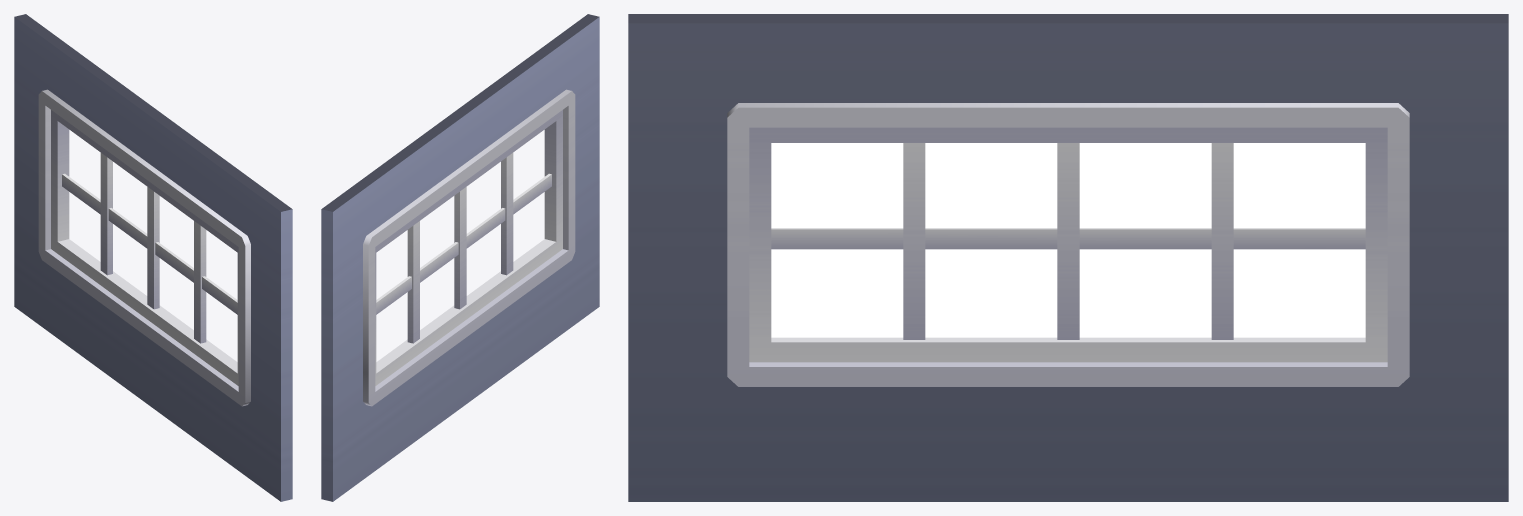
The model's file is Wall Window Wide.glb.
The picture shows the model from 3 angles, left to right: view 1: azimuth 30°, elevation 25°; view 2: azimuth 150°, elevation 25°; view 3: azimuth 270°, elevation 25°; orthographic projection. The views are drawn at different scales.
Visible parts, largest first — view 1: wall-window-wide-square-detailed; view 2: wall-window-wide-square-detailed; view 3: wall-window-wide-square-detailed, (%ignore).
Part boxes in pixels (left/top/right/bottom): wall-window-wide-square-detailed: left=14, top=14, right=292, bottom=501; wall-window-wide-square-detailed: left=321, top=14, right=599, bottom=501; wall-window-wide-square-detailed: left=628, top=14, right=1508, bottom=501; (%ignore): left=771, top=143, right=1365, bottom=337.
Bounding box in the file's own units: 0.2 × 2.4 × 4.
Materials: 2 (1 with a texture image).
